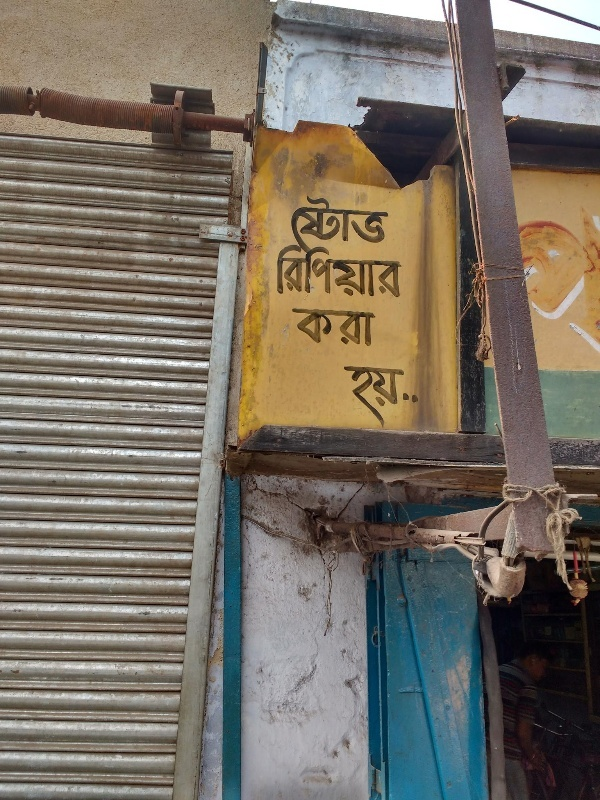text: (529, 201, 544, 372), (545, 201, 560, 372), (561, 201, 576, 372), (577, 201, 592, 372), (517, 201, 528, 372), (593, 201, 600, 372), (353, 363, 368, 431), (369, 363, 384, 431), (385, 363, 400, 431), (401, 363, 414, 431), (289, 243, 304, 298), (305, 243, 320, 298), (321, 243, 336, 298), (337, 243, 352, 298), (353, 243, 368, 298), (369, 243, 384, 298), (385, 243, 400, 298), (305, 195, 320, 247), (321, 195, 336, 247), (337, 195, 352, 247), (353, 195, 368, 247), (369, 195, 384, 247), (276, 243, 288, 298), (305, 308, 320, 347), (321, 308, 336, 347), (337, 308, 352, 347), (353, 308, 368, 347), (344, 363, 352, 431), (295, 195, 304, 247), (293, 308, 304, 347), (369, 308, 376, 347), (385, 195, 390, 247), (401, 243, 404, 298)
